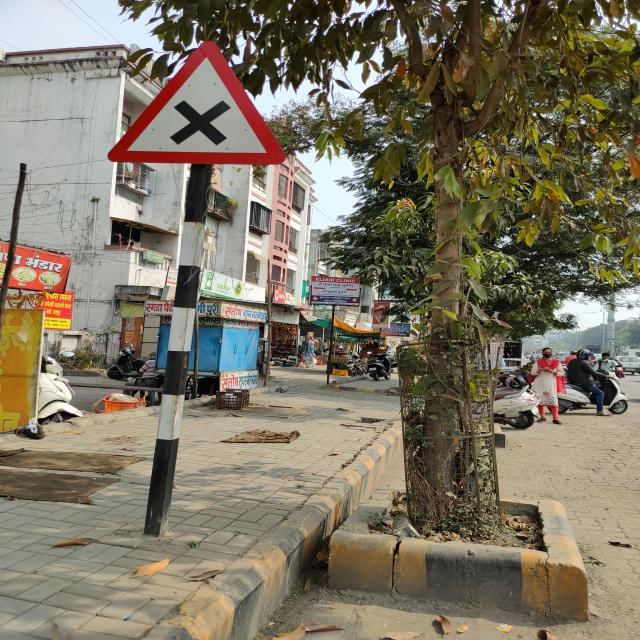cross_road: (104, 37, 288, 171)
